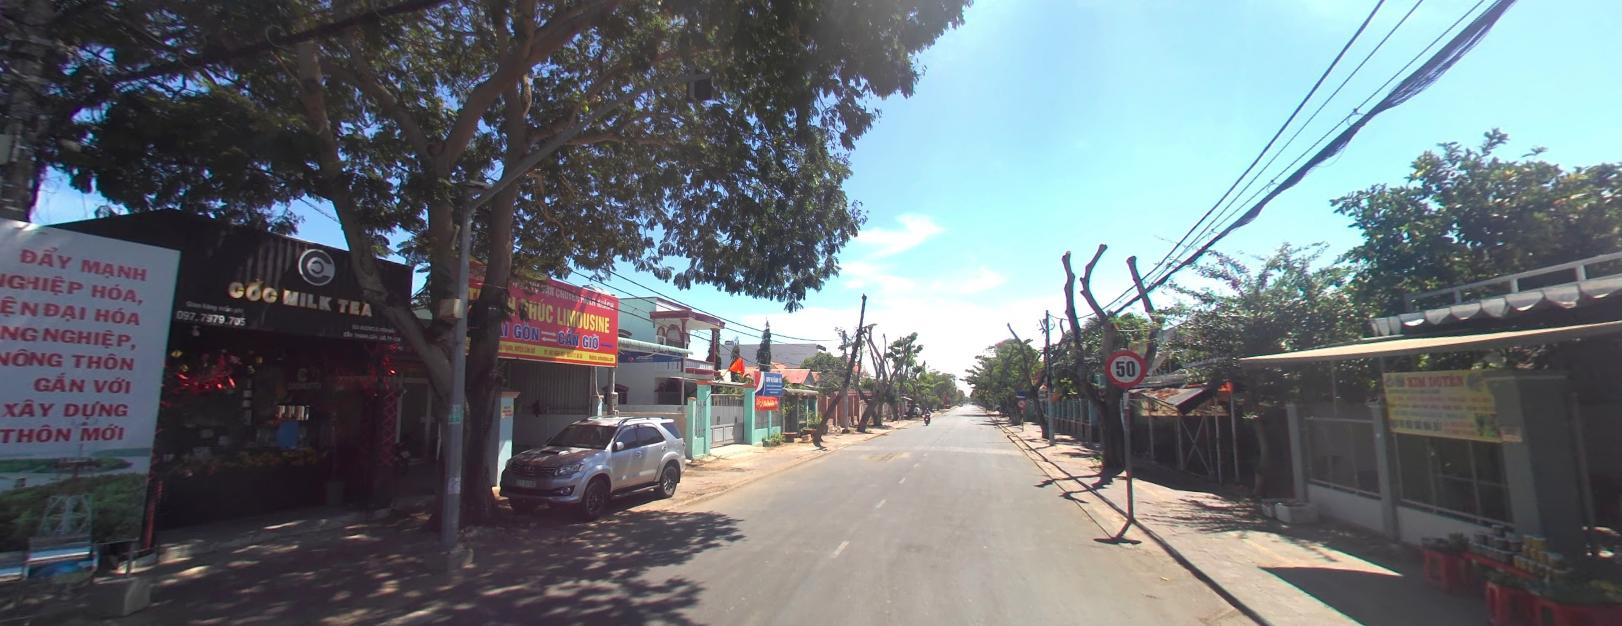Cam con lai: (1017, 398, 1025, 406)
Gioi han toc do: (1104, 348, 1146, 387)
